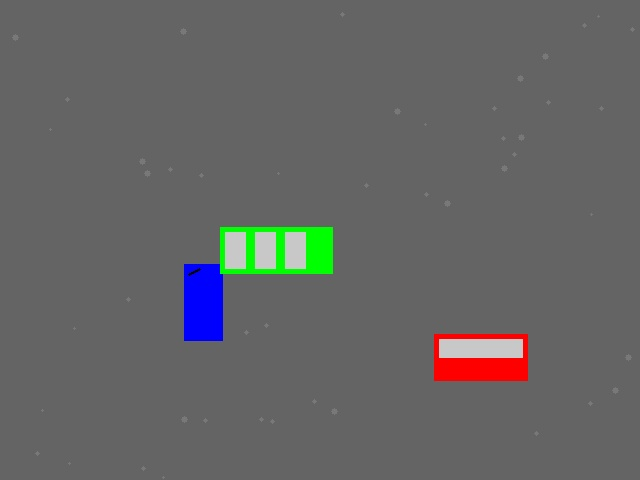bus: (220, 227, 332, 273)
car: (434, 334, 527, 380)
motorcycle: (184, 264, 222, 340)
